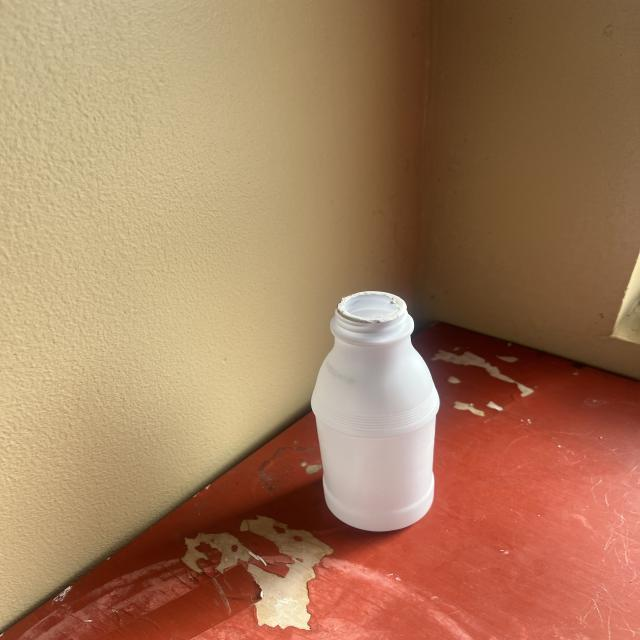HDPE_Bottle: (312, 292, 439, 531)
